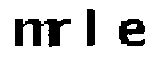e: (115, 17, 149, 51)
l: (85, 4, 104, 50)
m: (10, 15, 56, 49)
r: (54, 16, 74, 49)
